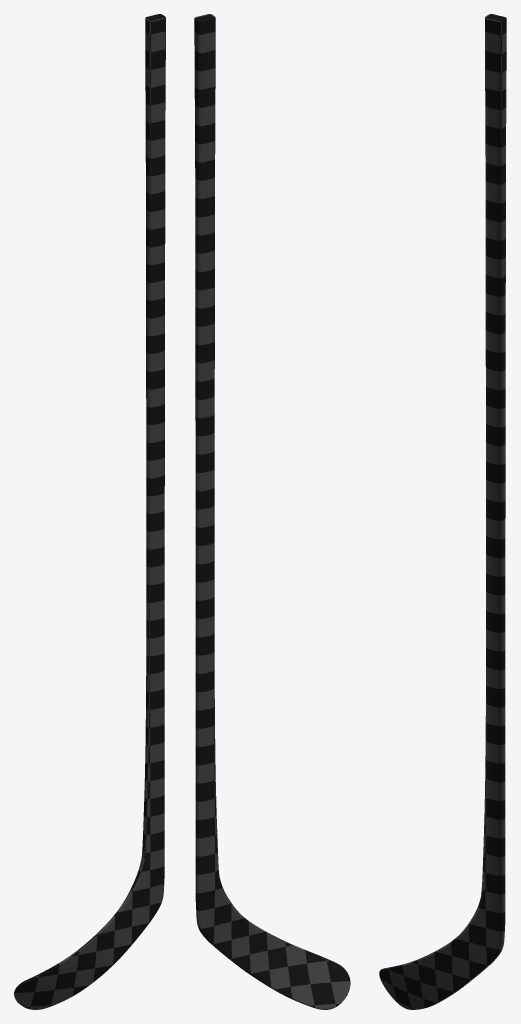
Rendered from P92B-SBO.glb.
3 views of the same model, side by side, from view 1: azimuth 30°, elevation 25°; view 2: azimuth 210°, elevation 25°; view 3: azimuth 330°, elevation 25° (orthographic). The views are drawn at different scales.
Visible parts, largest first — view 1: geometry_0; view 2: geometry_0; view 3: geometry_0.
Part boxes in pixels (box(x1,y1,x2,y2)): geometry_0: box(14, 14, 165, 1009); geometry_0: box(194, 14, 350, 1009); geometry_0: box(379, 14, 506, 1009).
Size of the model in its own units: 236 by 1650 by 65.89.
Materials: 1 (1 with a texture image).
